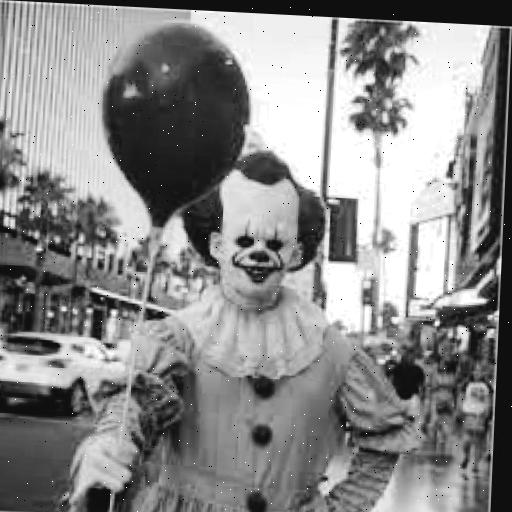balloon: (97, 17, 256, 215)
